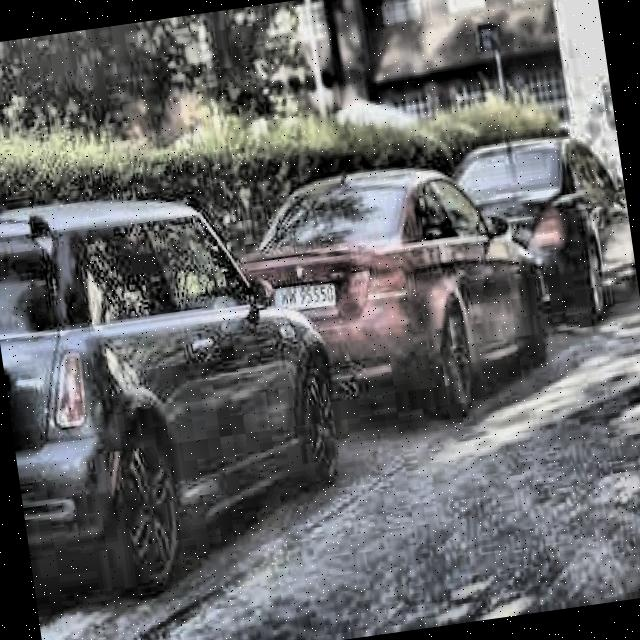license_plate: (271, 278, 338, 318)
